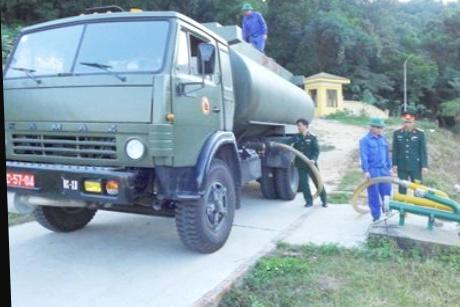License_Plate: (7, 169, 39, 193)
